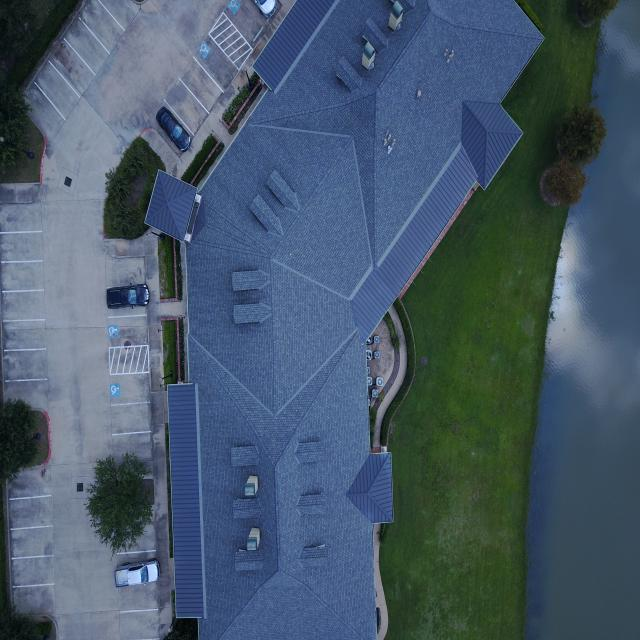fire: (526, 0, 640, 639)
